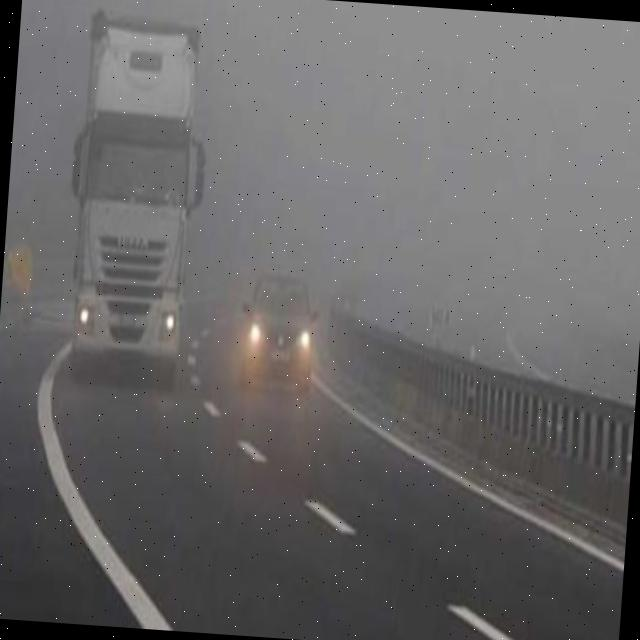bus: (58, 9, 214, 388)
car: (238, 268, 318, 392)
